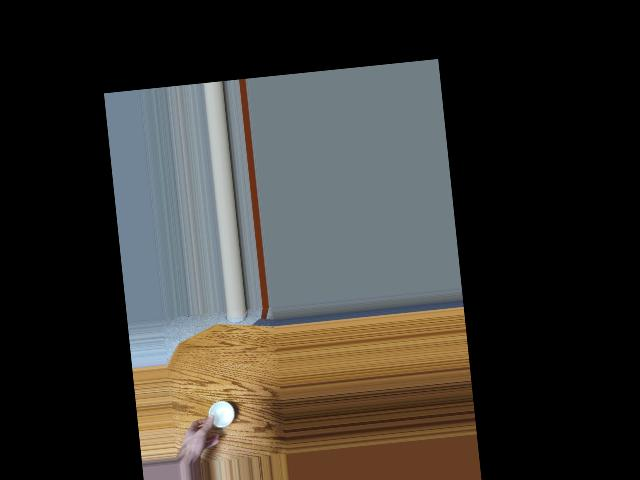cotage: (206, 397, 235, 428)
